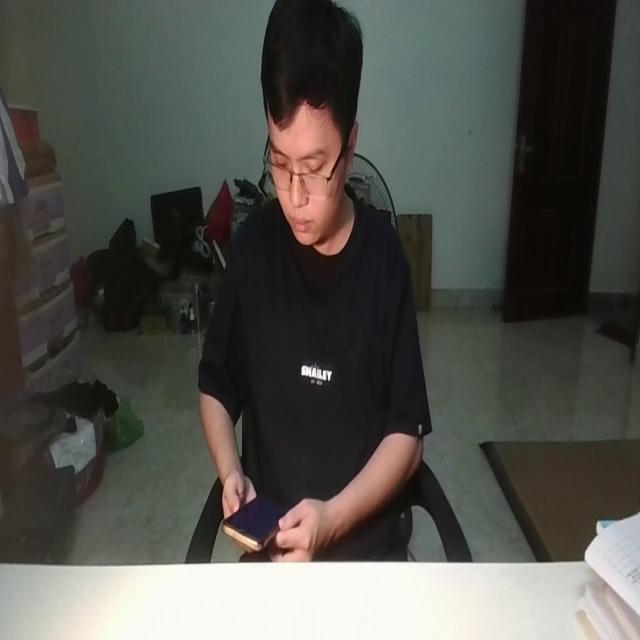phone: (219, 489, 292, 549)
student: (196, 0, 432, 562)
